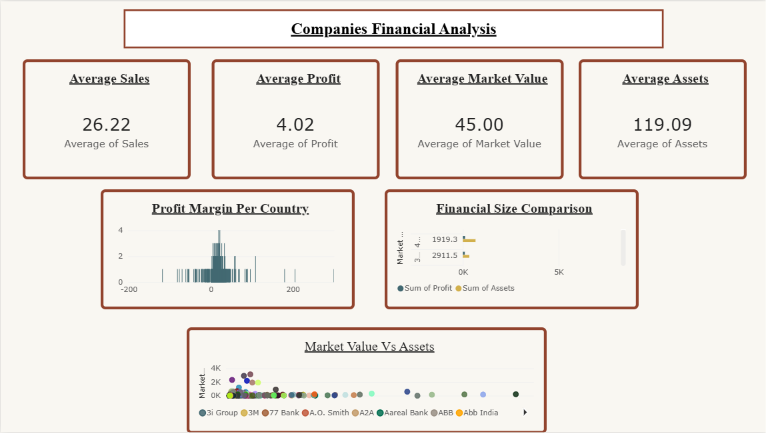

The dashboard page shown, as its layout file describes it:
{"tool":"powerbi","page":{"name":"Page 3","canvas":[1280,720],"ordinal":2},"visuals":[{"type":"shape","box":[204.3,12.9,900,65],"z":0},{"type":"card","title":"Average Sales ","fields":{"Values":["Avg(Financial_Performance_Analytics_Cleaned.Sales)"]},"box":[37,96,280,200],"z":1000},{"type":"card","title":"Average Profit","fields":{"Values":["Avg(Financial_Performance_Analytics_Cleaned.Profit)"]},"box":[352,96,280,200],"z":2000},{"type":"card","title":"Average Assets","fields":{"Values":["Avg(Financial_Performance_Analytics_Cleaned.Assets)"]},"box":[10,870,280,210],"z":3000},{"type":"card","title":"Average Market Value","fields":{"Values":["Avg(Financial_Performance_Analytics_Cleaned.Market Value)"]},"box":[659,96,280,200],"z":4000},{"type":"columnChart","title":"Profit Margin Per Country","fields":{"Category":["Financial_Performance_Analytics_Cleaned.Profit_Margin"],"Y":["CountNonNull(Financial_Performance_Analytics_Cleaned.Name)"]},"box":[167,313,423,200],"z":5000},{"type":"scatterChart","title":"Market Value Vs Assets","fields":{"Series":["Financial_Performance_Analytics_Cleaned.Name"],"X":["Financial_Performance_Analytics_Cleaned.Assets"],"Y":["Financial_Performance_Analytics_Cleaned.Market Value"]},"box":[310,543,600,177],"z":6000},{"type":"scatterChart","title":"Assets vs Profit","fields":{"Series":["Financial_Performance_Analytics_Cleaned.Name"],"X":["Financial_Performance_Analytics_Cleaned.Assets"],"Y":["Financial_Performance_Analytics_Cleaned.Profit"]},"box":[300,870,280,210],"z":7000},{"type":"clusteredBarChart","title":"Financial Size Comparison","fields":{"Category":["Financial_Performance_Analytics_Cleaned.Sales","Financial_Performance_Analytics_Cleaned.Market Value"],"Y":["Sum(Financial_Performance_Analytics_Cleaned.Profit)","Sum(Financial_Performance_Analytics_Cleaned.Assets)"]},"box":[640,313,423,200],"z":8000},{"type":"card","title":"Average Assets","fields":{"Values":["Avg(Financial_Performance_Analytics_Cleaned.Assets)"]},"box":[964,96,280,200],"z":9000}]}

Visuals, with their boxes in screenshot pixels (x1, y1, x2, y2), scaled from the page's 1280x720 canvas onto the 766x433 screenshot:
shape: <bbox>122, 8, 661, 47</bbox>
"Average Sales " card: <bbox>22, 58, 190, 178</bbox>
"Average Profit" card: <bbox>211, 58, 378, 178</bbox>
"Average Market Value" card: <bbox>394, 58, 562, 178</bbox>
"Profit Margin Per Country" columnChart: <bbox>100, 188, 353, 309</bbox>
"Market Value Vs Assets" scatterChart: <bbox>186, 327, 545, 432</bbox>
"Financial Size Comparison" clusteredBarChart: <bbox>383, 188, 636, 309</bbox>
"Average Assets" card: <bbox>577, 58, 744, 178</bbox>
